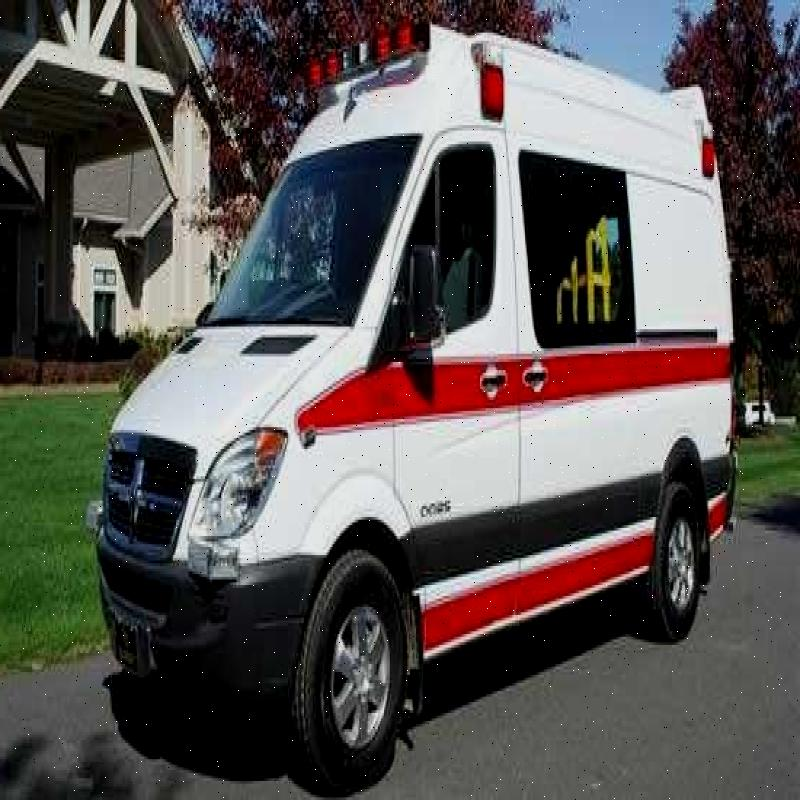AmbulanceSiren: (278, 3, 435, 103)
